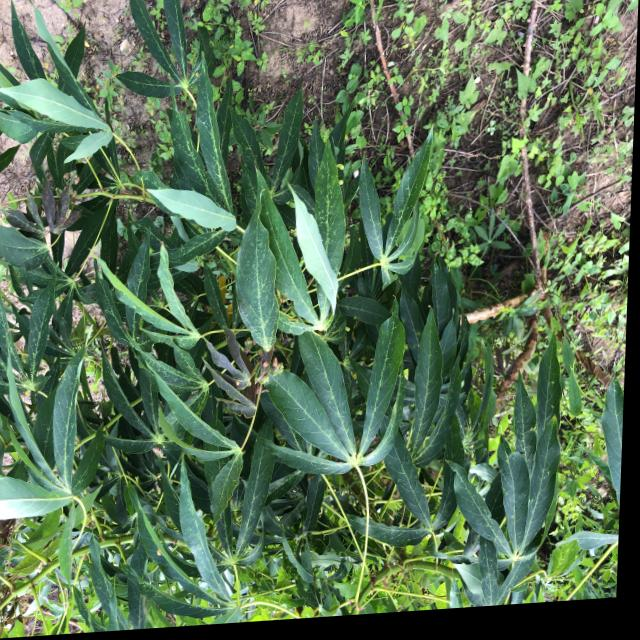Mosca: (347, 394, 376, 430), (339, 316, 361, 345), (152, 534, 174, 560), (347, 161, 365, 178)
